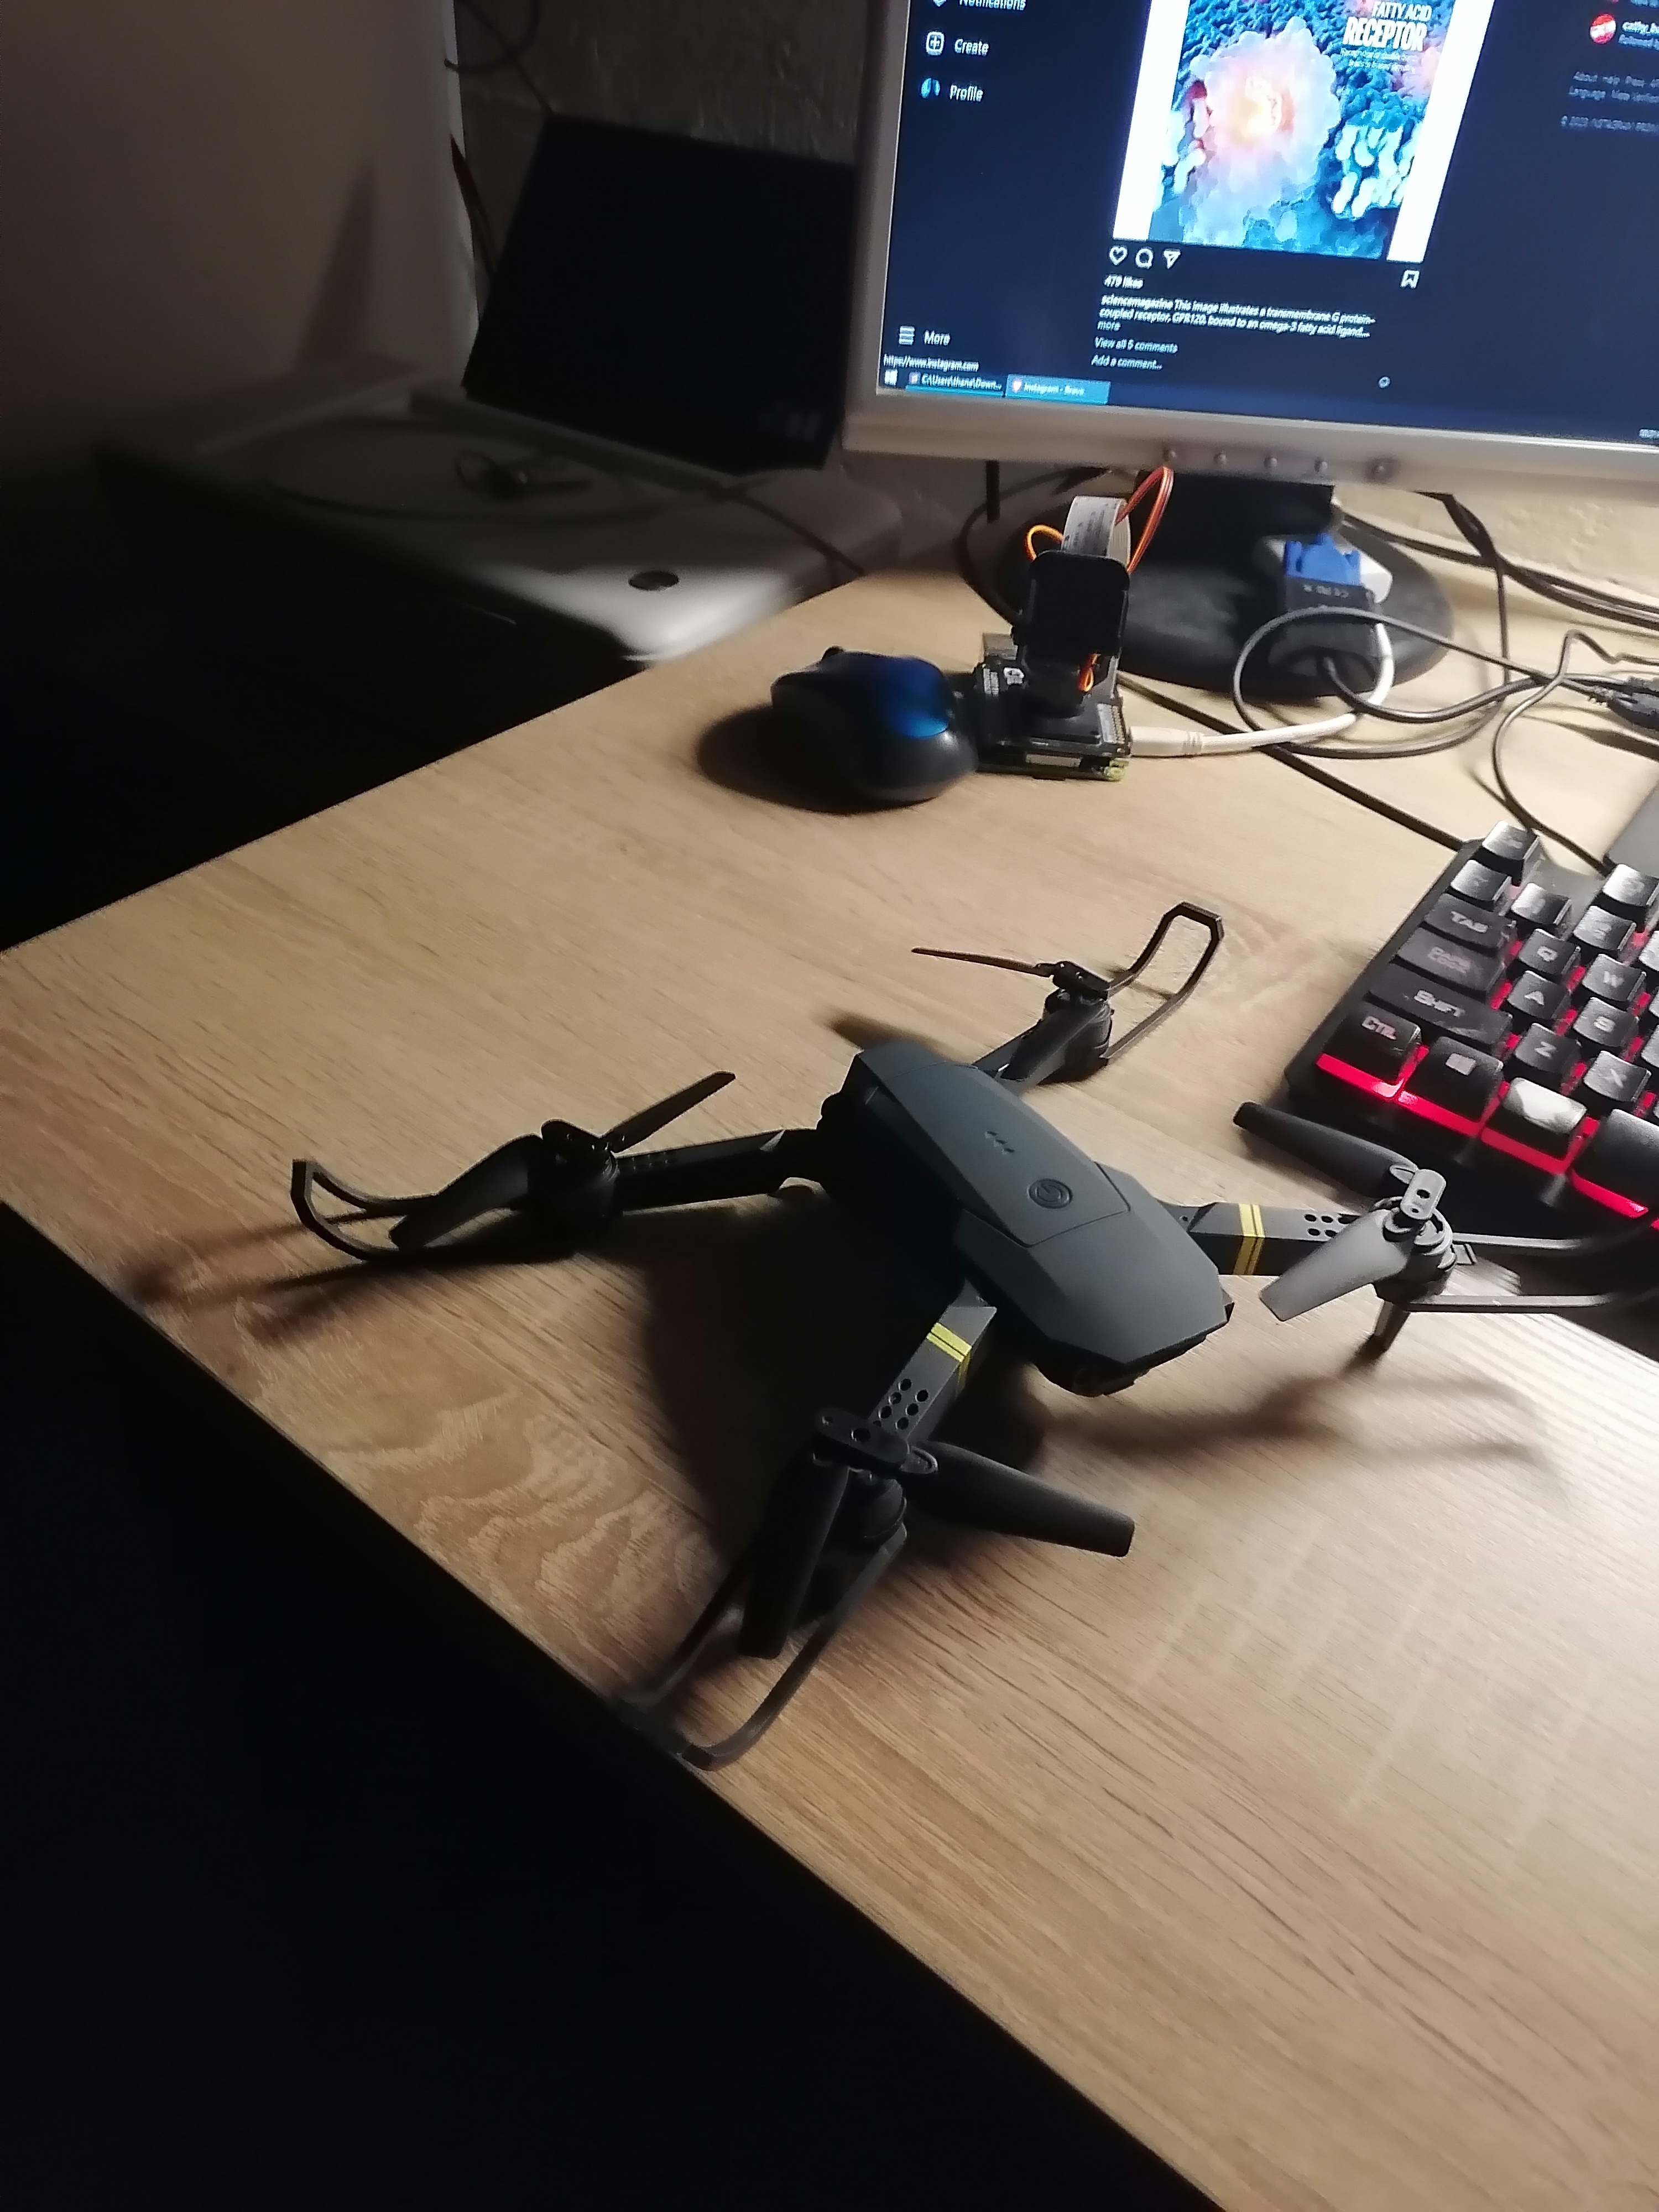drone: (385, 1106, 1547, 1639)
